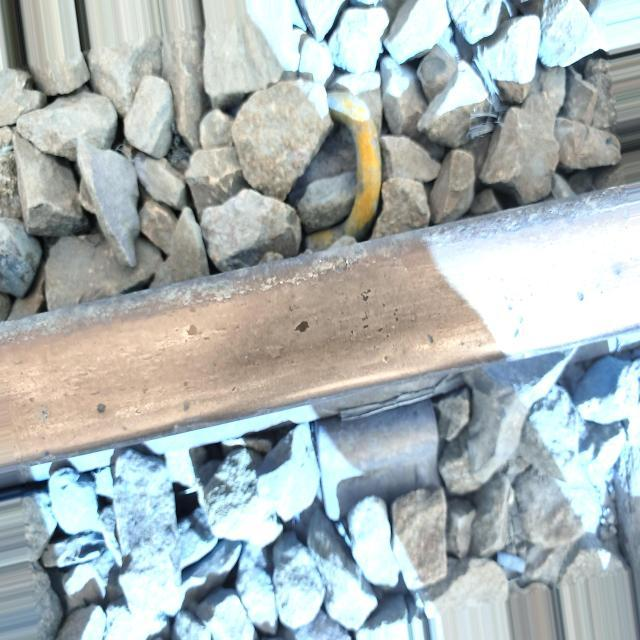Good Fasteners: (289, 90, 381, 251)
Missing Fastener: (306, 416, 453, 527)
